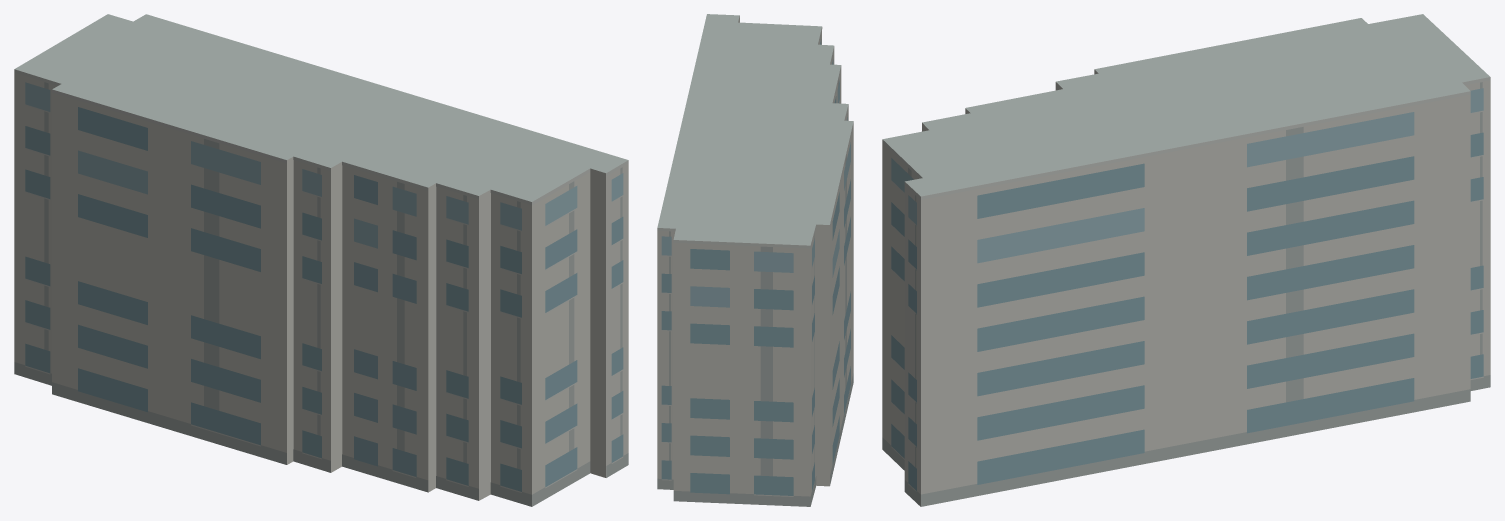
The model's file is survey-upis-32736470.glb.
3 views of the same model, side by side, from view 1: azimuth 30°, elevation 25°; view 2: azimuth 150°, elevation 25°; view 3: azimuth 270°, elevation 25° (orthographic). The views are drawn at different scales.
Visible parts, largest first — view 1: survey-upis-32736470.tmp; view 2: survey-upis-32736470.tmp; view 3: survey-upis-32736470.tmp.
Part boxes in pixels (<box>): survey-upis-32736470.tmp: <box>14,14,628,506</box>; survey-upis-32736470.tmp: <box>657,14,853,506</box>; survey-upis-32736470.tmp: <box>882,14,1490,506</box>.
Size of the model in its own units: 26.95 by 21.35 by 37.92.
